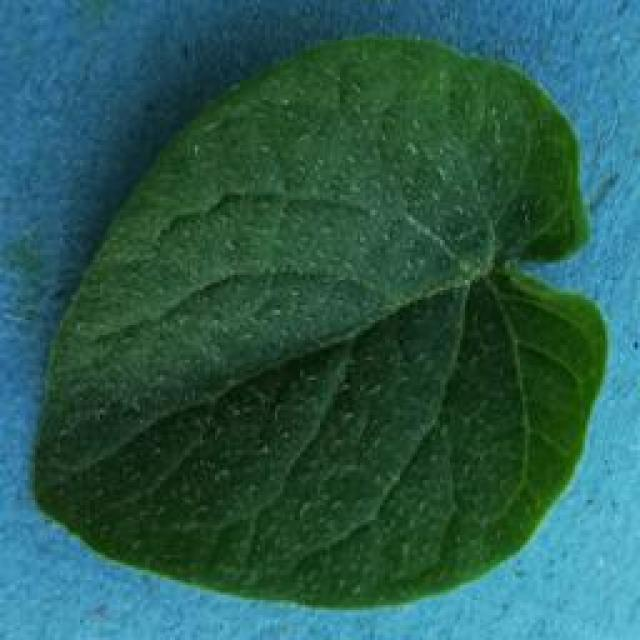Potato_Healthy: (36, 36, 605, 608)
